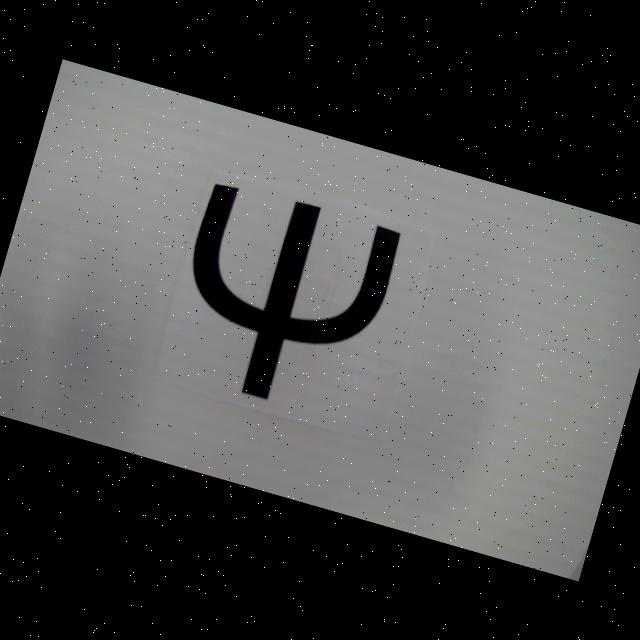PSI: (158, 175, 404, 424)
